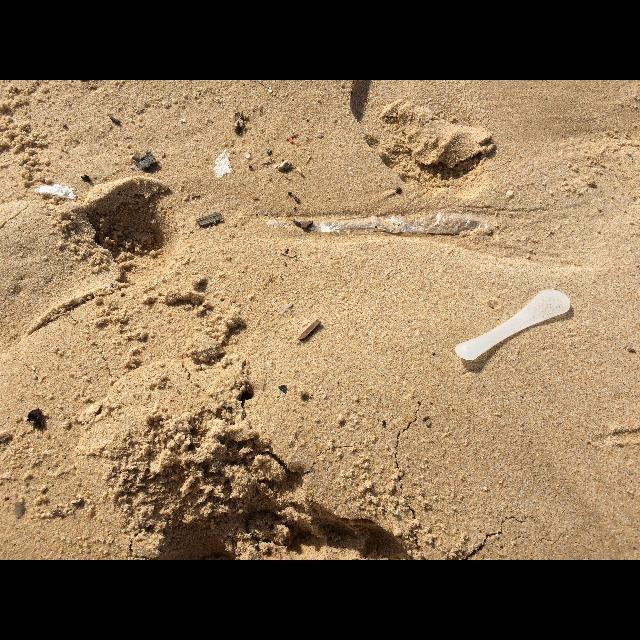Plastic: (456, 290, 570, 360), (268, 214, 490, 234), (33, 183, 76, 199), (212, 150, 232, 178)
